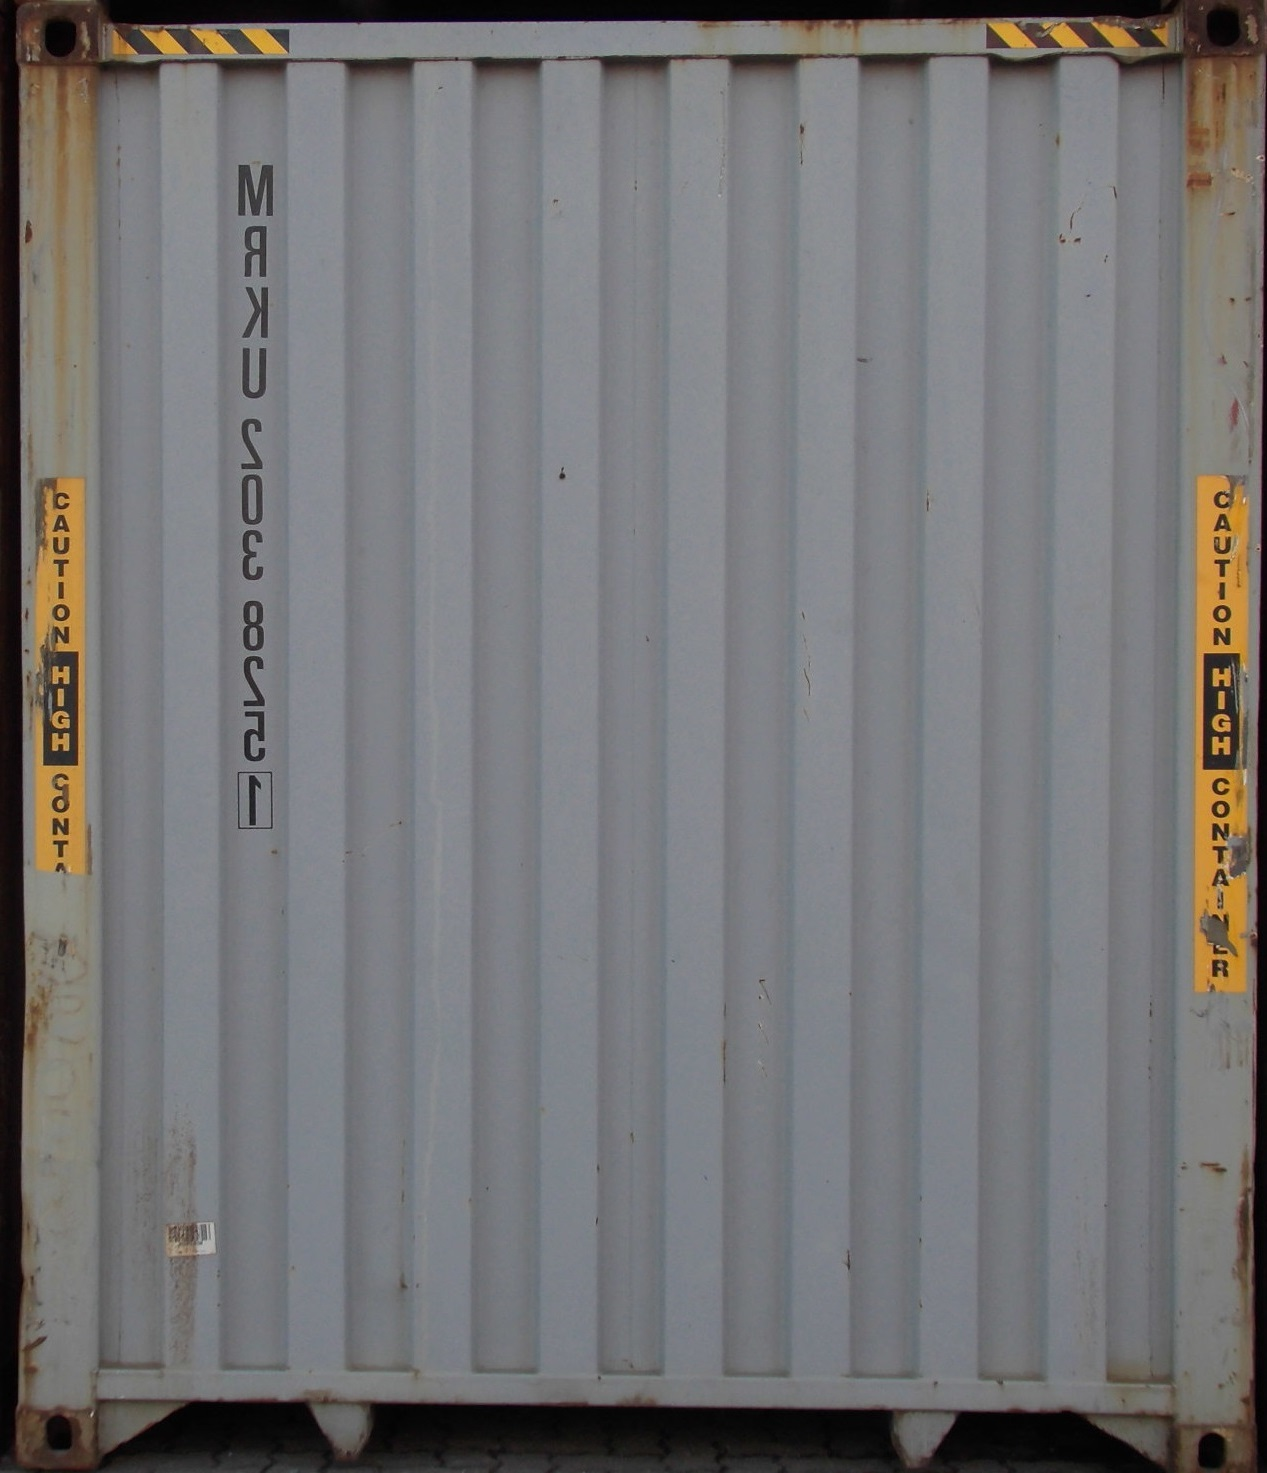container_no_door: (31, 14, 1241, 1458)
